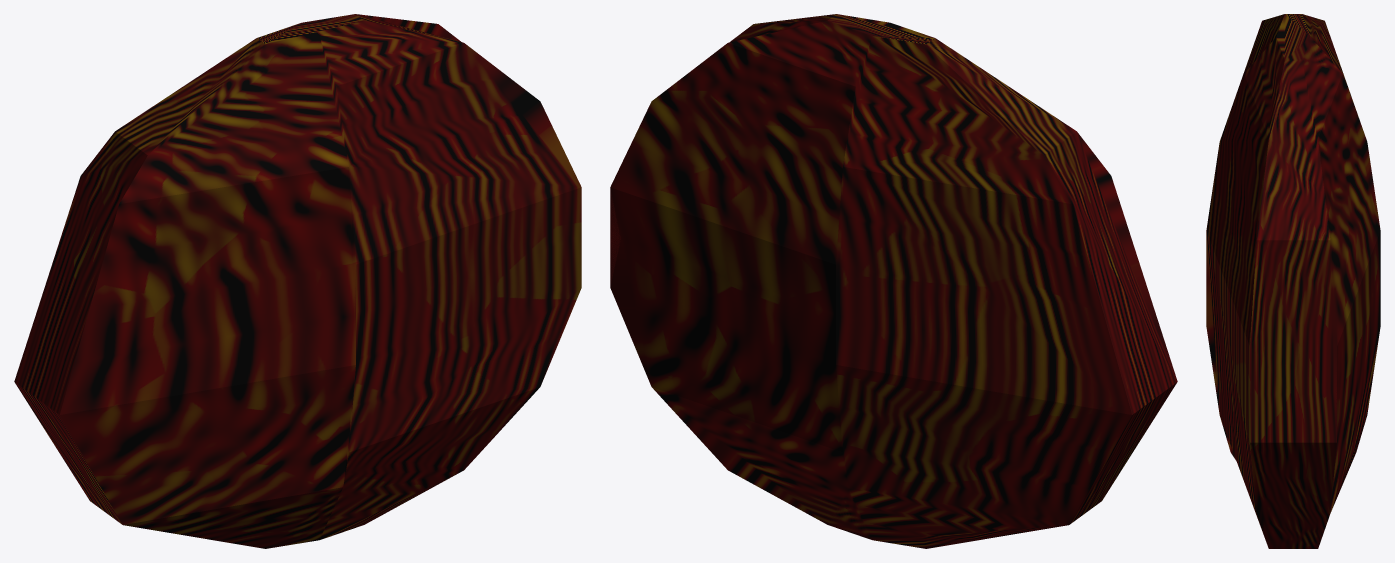
File: mountain.glb
3 renders of one model, left to right at view 1: azimuth 30°, elevation 25°; view 2: azimuth 150°, elevation 25°; view 3: azimuth 270°, elevation 25°, orthographic. The views are drawn at different scales.
Parts seen in each view (by area): view 1: Sphere; view 2: Sphere; view 3: Sphere.
Part boxes in pixels (left/top/right/bottom): Sphere: left=14, top=14, right=581, bottom=548; Sphere: left=610, top=14, right=1177, bottom=548; Sphere: left=1206, top=14, right=1380, bottom=548.
Size of the model in its own units: 26 by 24 by 7.85.
1 material, 1 textured.
